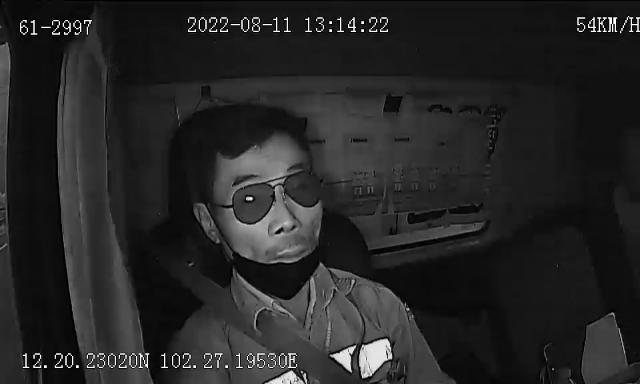SafeDriving: (418, 96, 460, 120), (237, 190, 261, 206)
Seatbelt: (159, 242, 377, 384)
